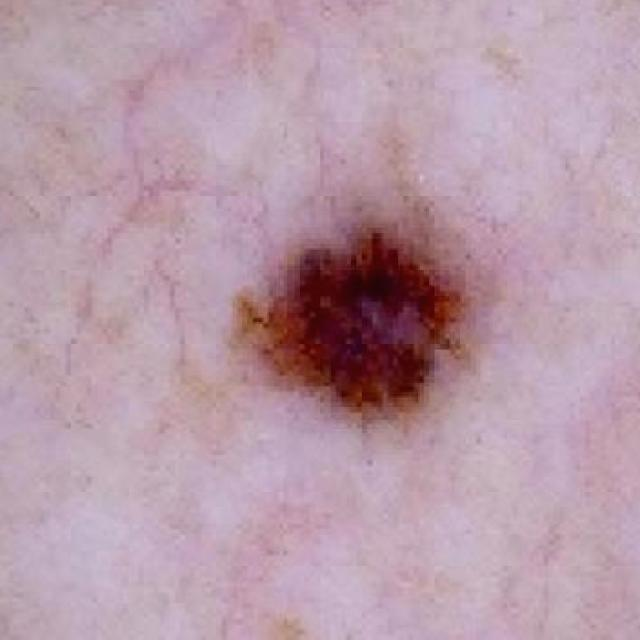MEL: (220, 190, 495, 440)
